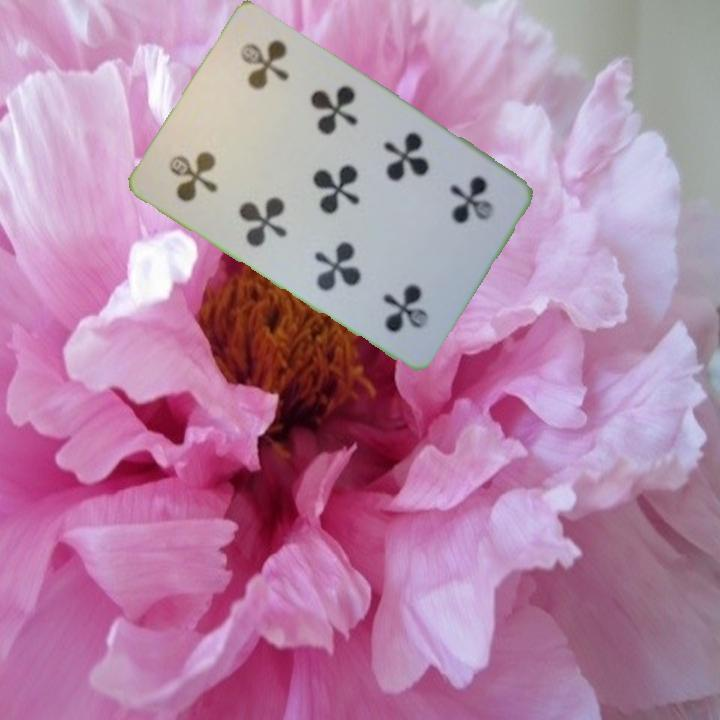c_9.png: (394, 146, 518, 275), (145, 99, 269, 227)
